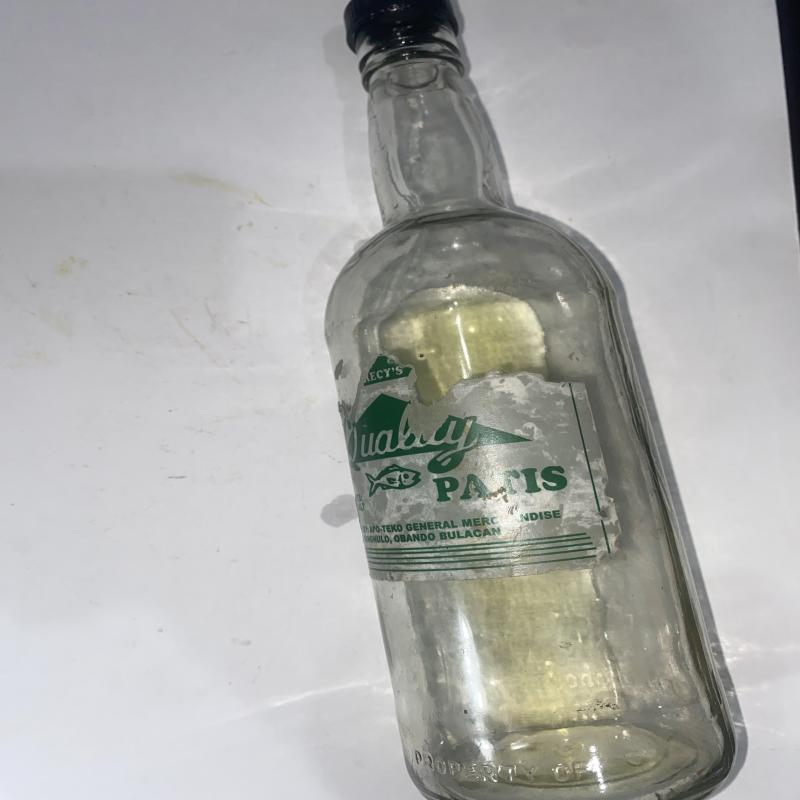glass bottle: (322, 0, 750, 800)
